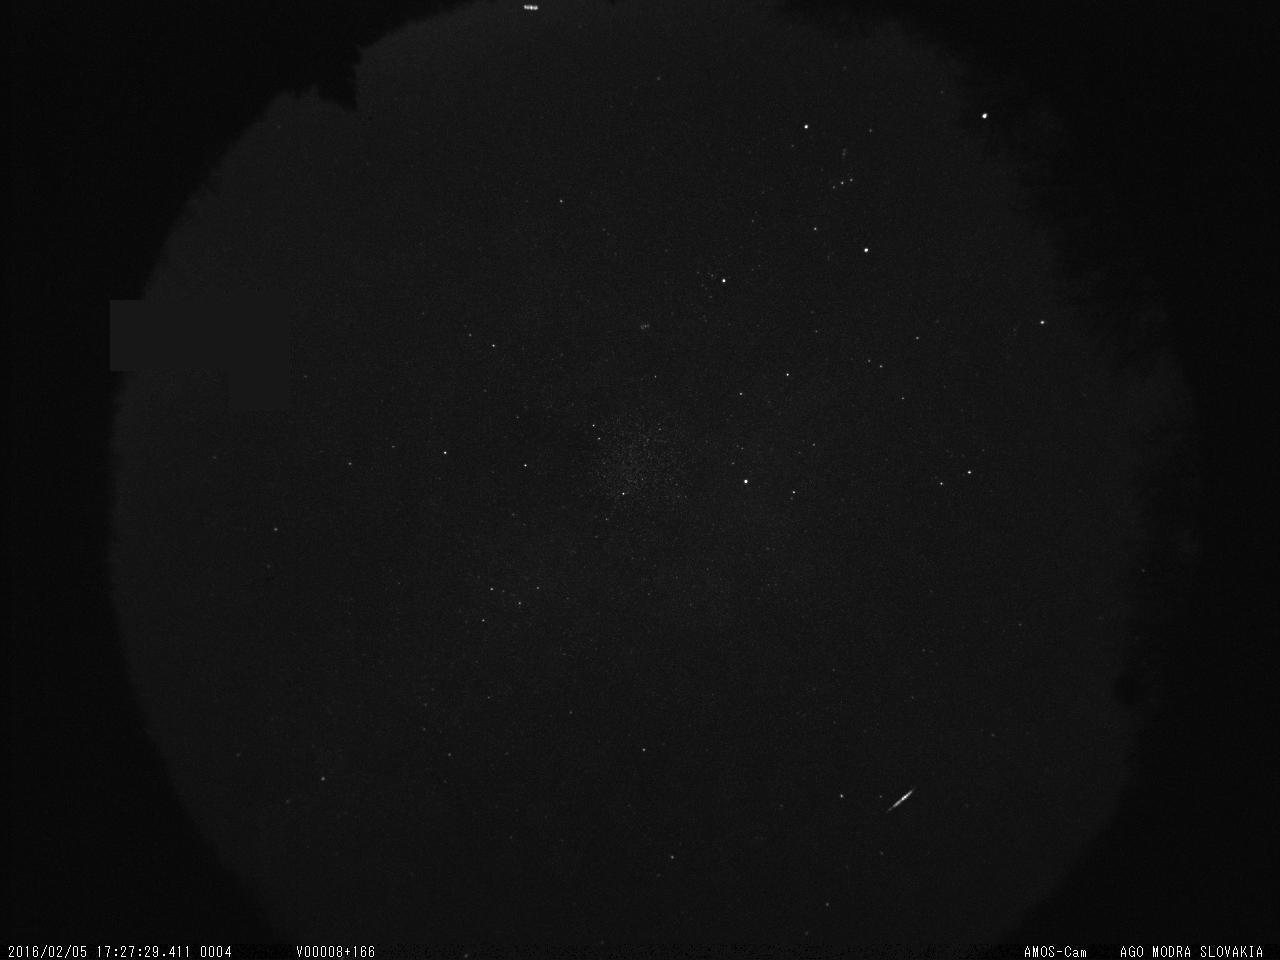meteor: (881, 782, 926, 818)
satelite: (519, 1, 544, 16)
